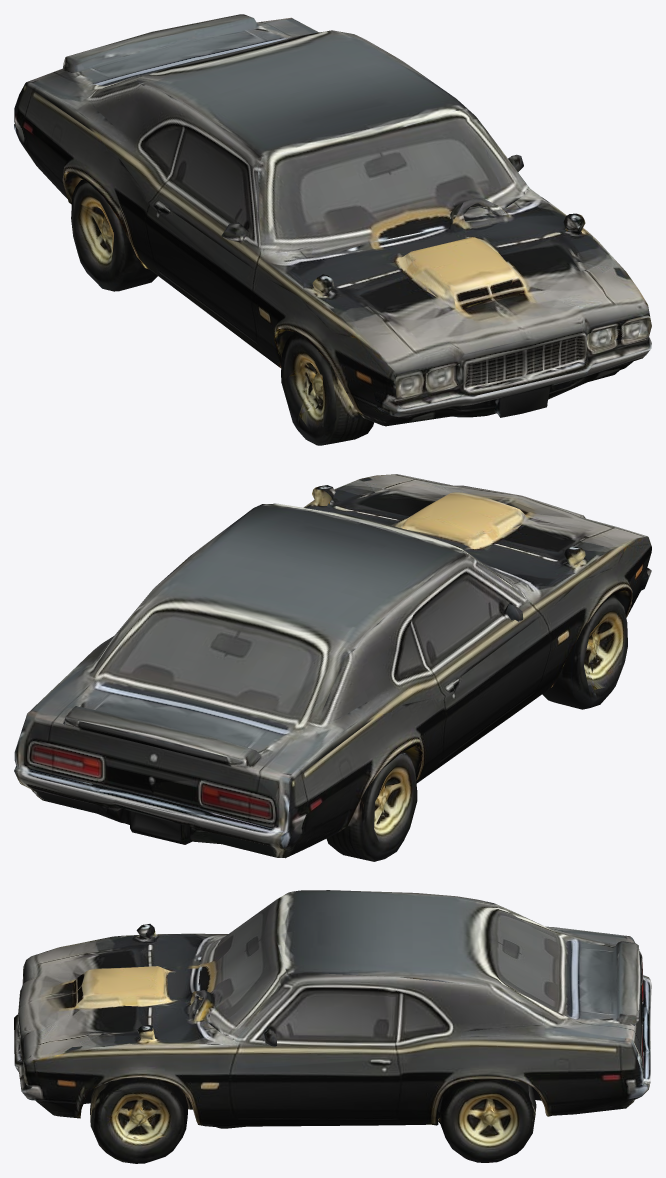
File: transam_77.glb
3 views of the same model, one above another, from view 1: azimuth 30°, elevation 25°; view 2: azimuth 150°, elevation 25°; view 3: azimuth 270°, elevation 25° (orthographic). The views are drawn at different scales.
Visible parts, largest first — view 1: textured; view 2: textured; view 3: textured.
Boxes of the visible parts, x1=… form: textured: x1=14, y1=14, x2=651, y2=445; textured: x1=14, y1=474, x2=651, y2=861; textured: x1=14, y1=890, x2=651, y2=1163.
Bounding box in the file's own units: 0.9428 × 0.6198 × 1.99.
Materials: 1 (1 with a texture image).
